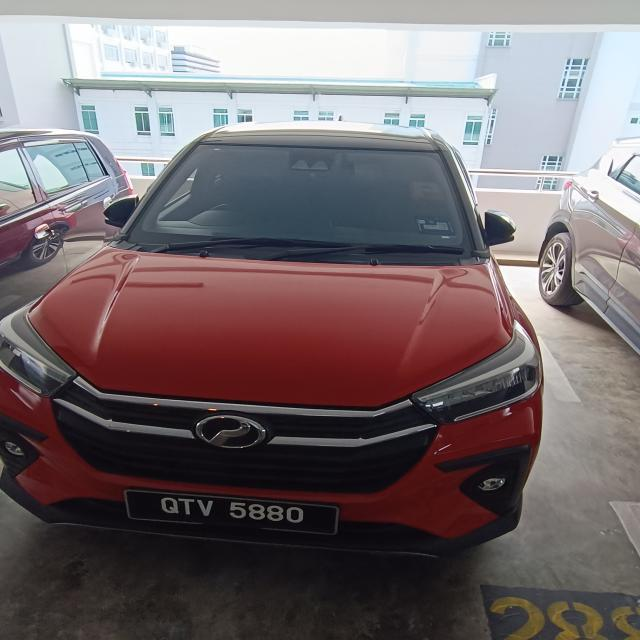PeroduaAtiva: (1, 118, 546, 559)
